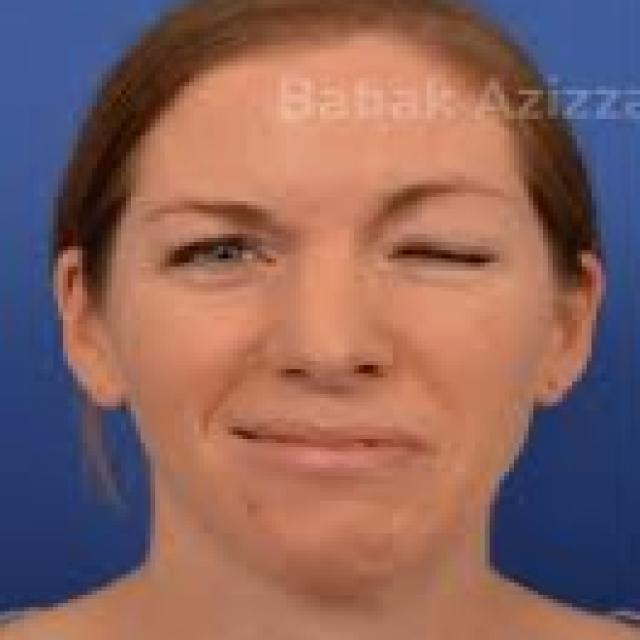stroke_face: (140, 46, 530, 542)
